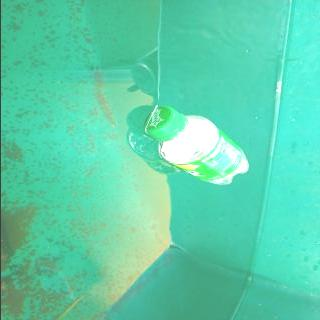bottle: (141, 106, 250, 186)
